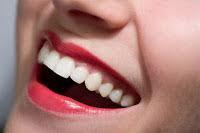normal: (54, 54, 76, 80), (70, 62, 91, 85), (83, 71, 106, 92), (43, 49, 61, 71), (98, 82, 117, 98), (37, 42, 50, 64), (108, 88, 125, 104), (119, 95, 137, 108)
